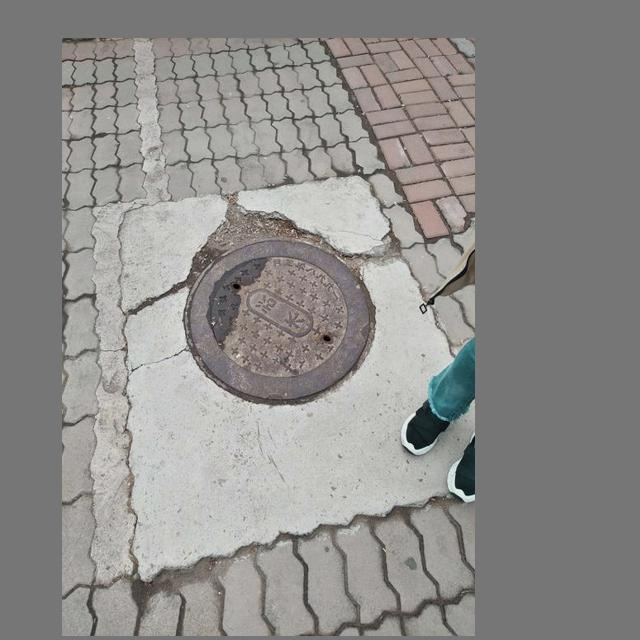circle: (136, 197, 413, 432)
